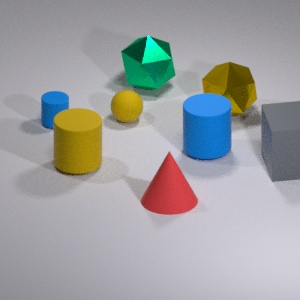lapphuong: (255, 99, 300, 187)
lucgiac: (195, 51, 258, 118), (113, 30, 179, 89)
non: (141, 150, 201, 222)
tron: (109, 89, 147, 122)
tru: (51, 105, 107, 177), (181, 92, 232, 162), (37, 86, 72, 135)
